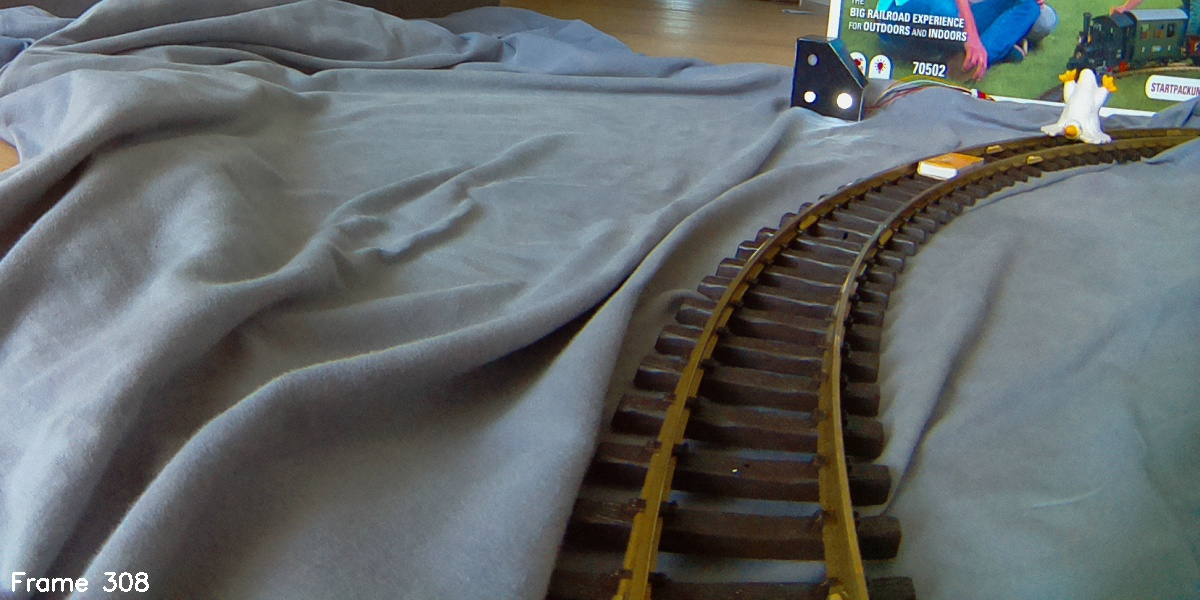Halt: (786, 32, 866, 124)
